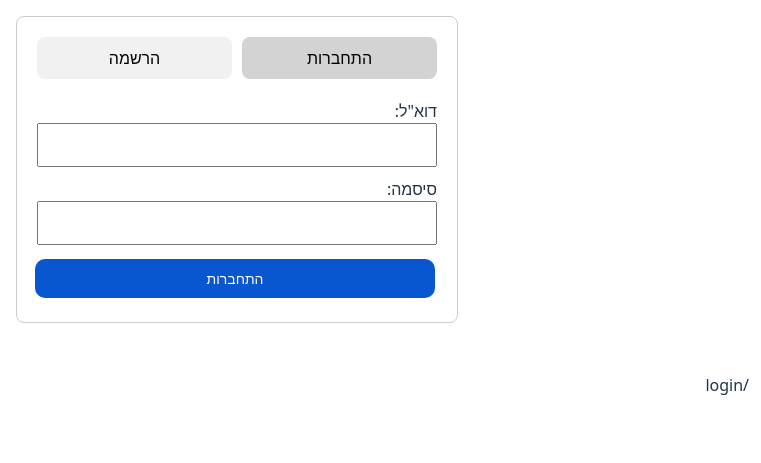
Test case: Auth login flow › logs in and redirects on success
The width and height of the screenshot is (761, 463).
Type "u@e.com" into the field labelled "דוא\"ל:" at [237, 145], box [37,123,437,167]
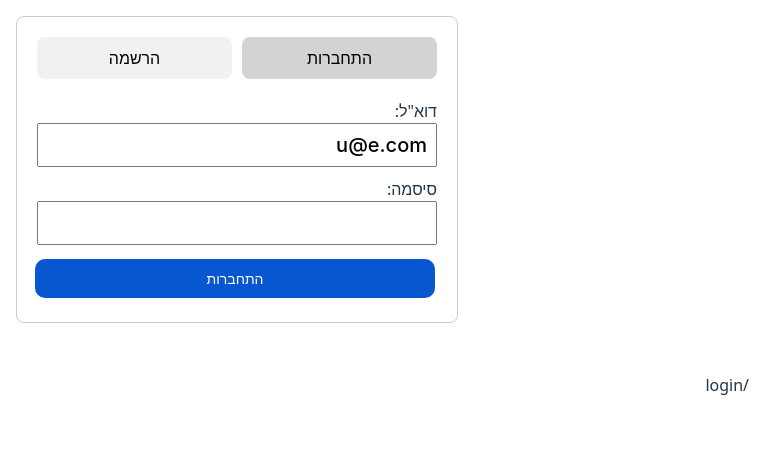
Type "pw" into the password field labelled "סיסמה:" at [237, 223], box [37,201,437,245]
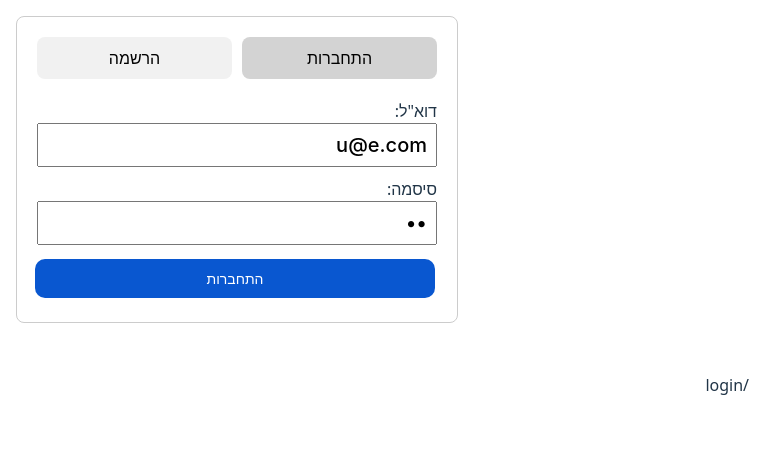
Click the button "התחברות" at [235, 278], box [35,259,435,298]
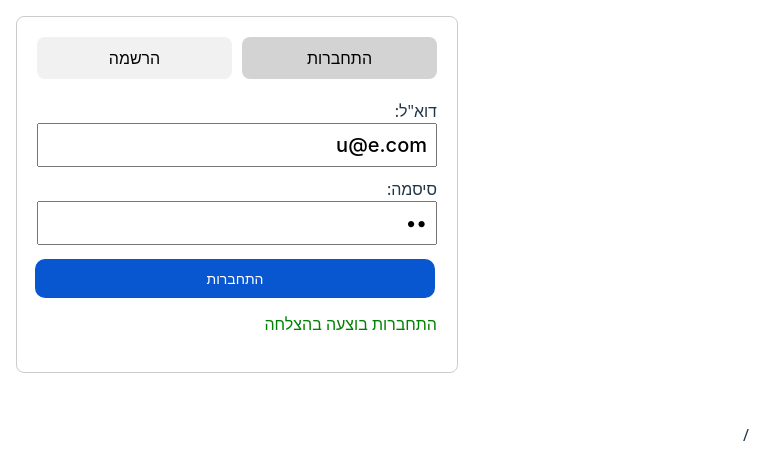
Now the text with test id "location-display" reads "/", box [743,424,749,446]
